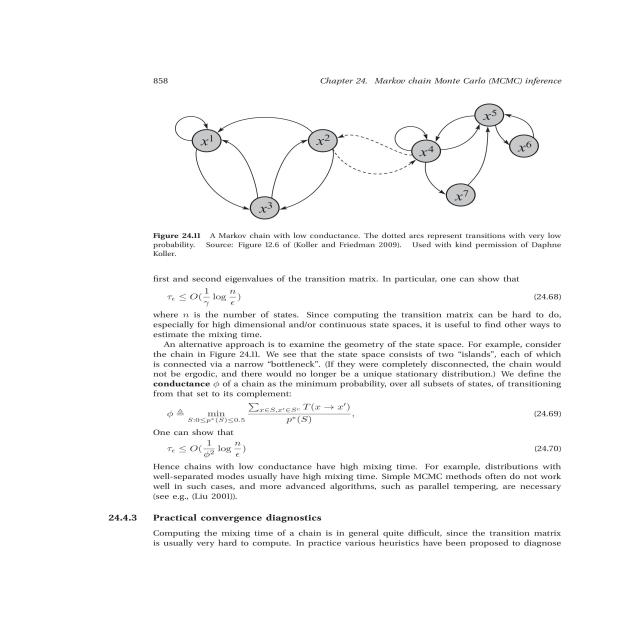diagram: (111, 97, 580, 263)
